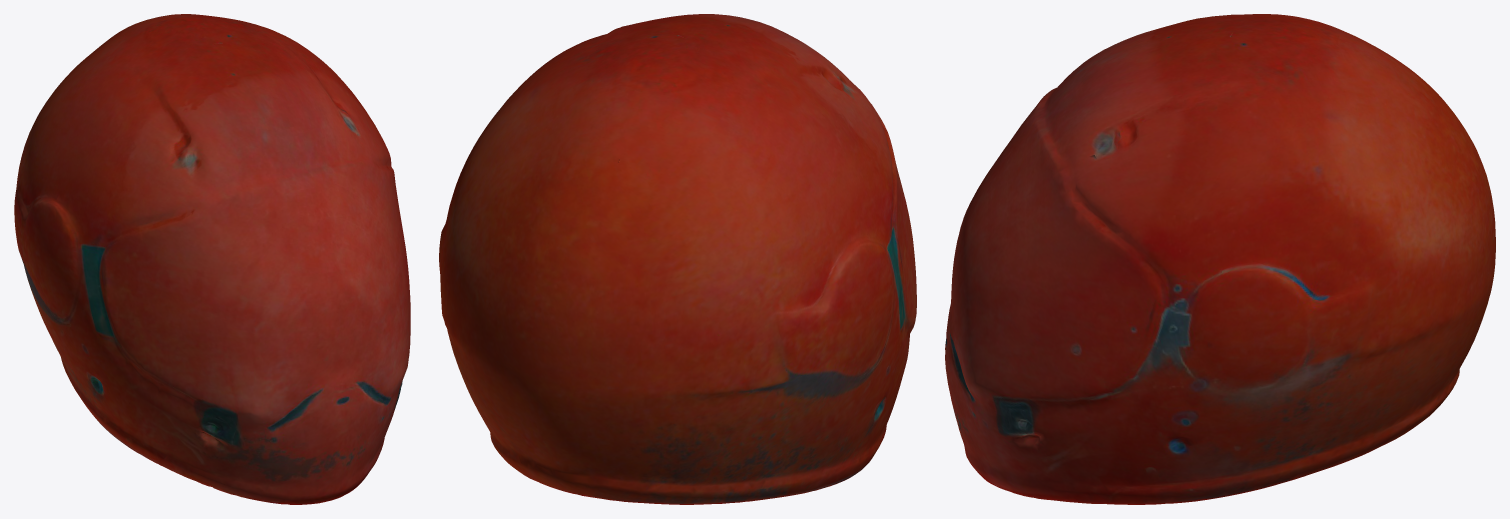
Rendered from meshy_0197185e-6e58-7e3d-b195-4efcf28df0a8.glb.
3 renders of one model, left to right at view 1: azimuth 30°, elevation 25°; view 2: azimuth 150°, elevation 25°; view 3: azimuth 270°, elevation 25°, orthographic. The views are drawn at different scales.
Visible parts, largest first — view 1: file1; view 2: file1; view 3: file1.
Boxes of the visible parts, <box> form: file1: <box>14,14,410,504</box>; file1: <box>439,14,916,504</box>; file1: <box>945,14,1495,504</box>.
Size of the model in its own units: 1.57 by 1.74 by 2.
Materials: 1 (1 with a texture image).
